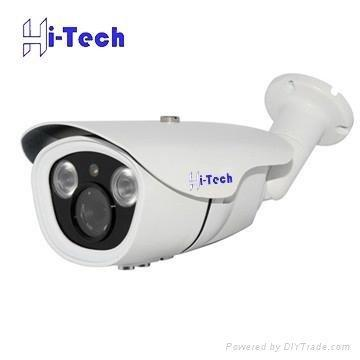Monitor: (19, 71, 354, 271)
